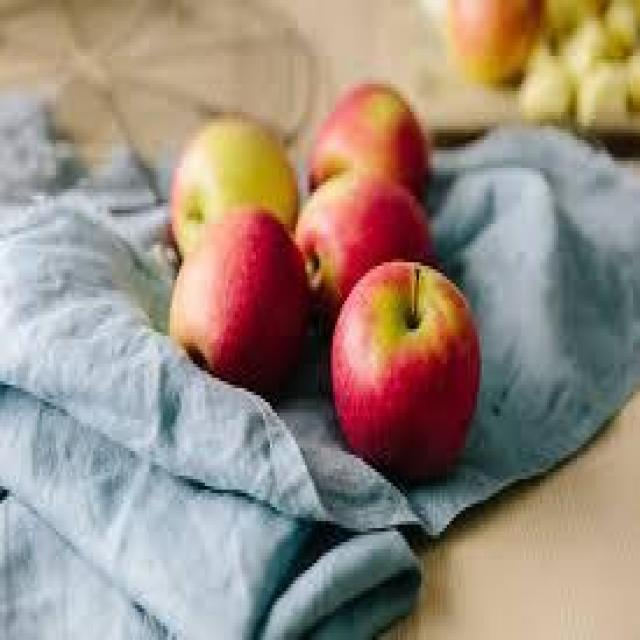maca: (328, 255, 482, 479)
